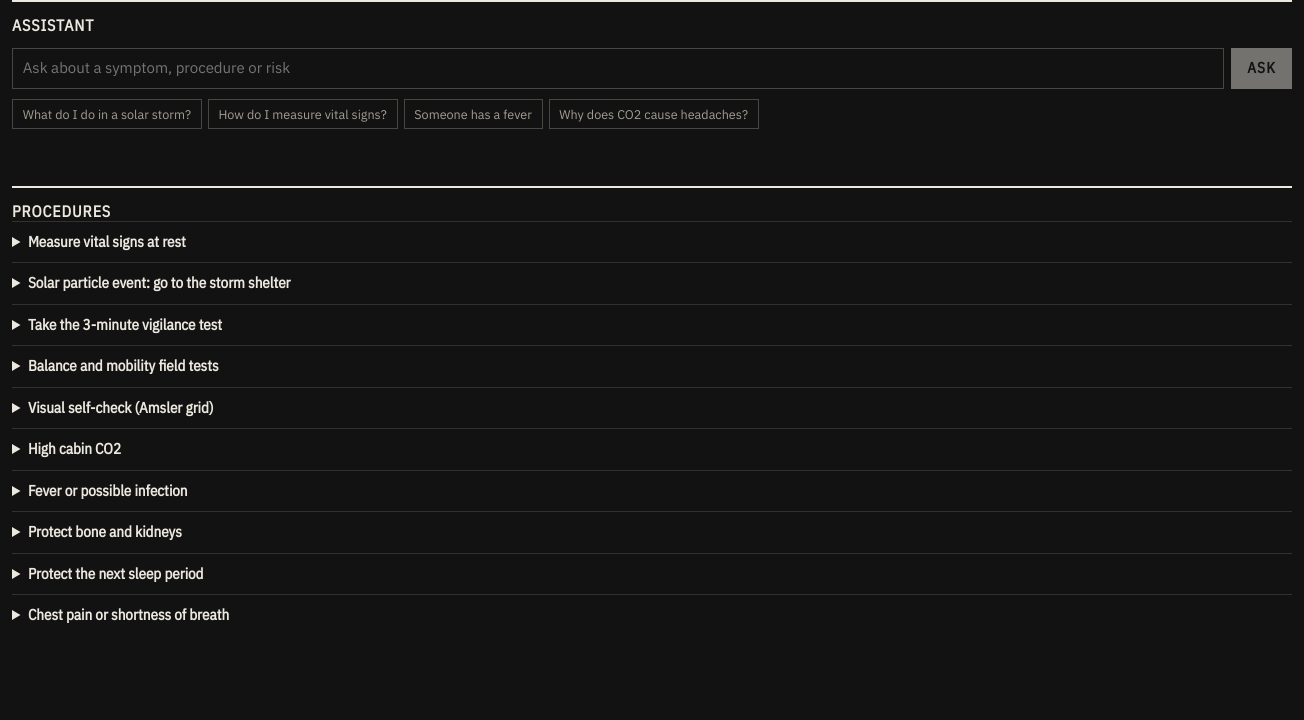
Test: assistant view › shows a procedure as numbered steps with its sources
This screenshot has width=1304, height=720.
Click the button "What do I do in a solar storm?" at {"x": 107, "y": 114}, box [12,99,202,129]
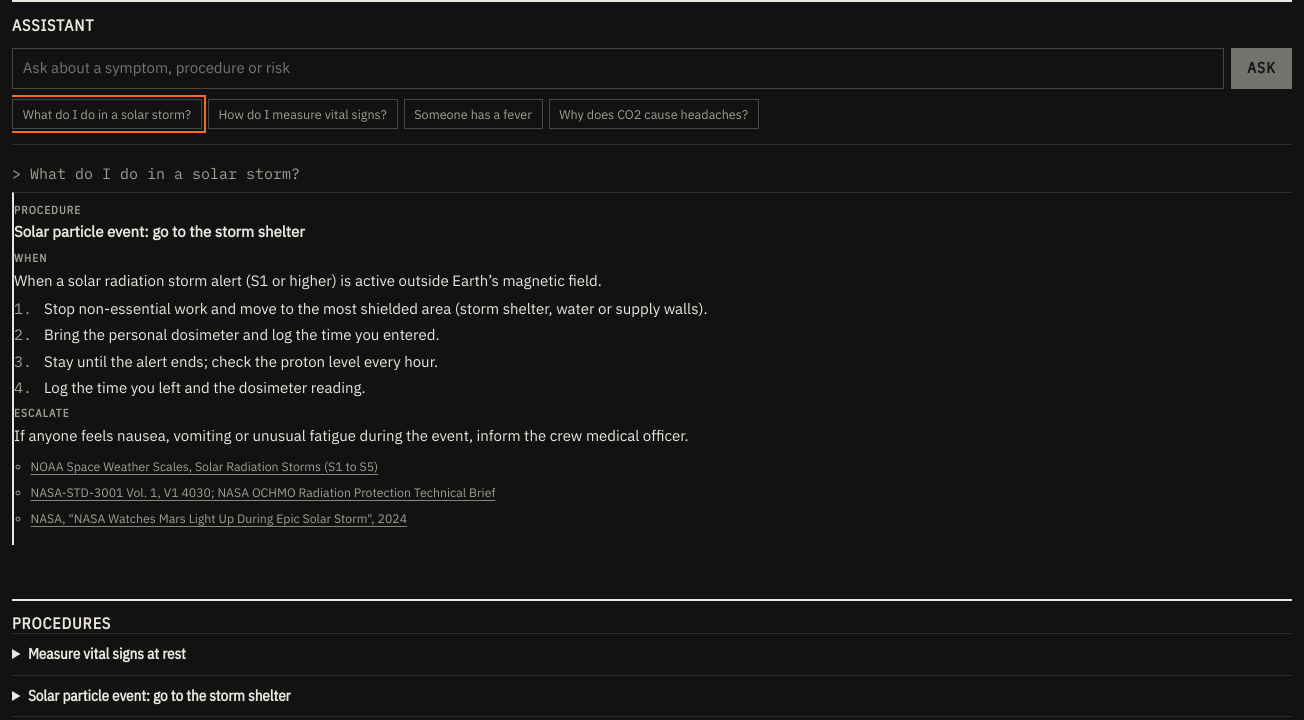
Result: the text "Solar particle event: go to the storm shelter" is shown at [14,222,305,241]
